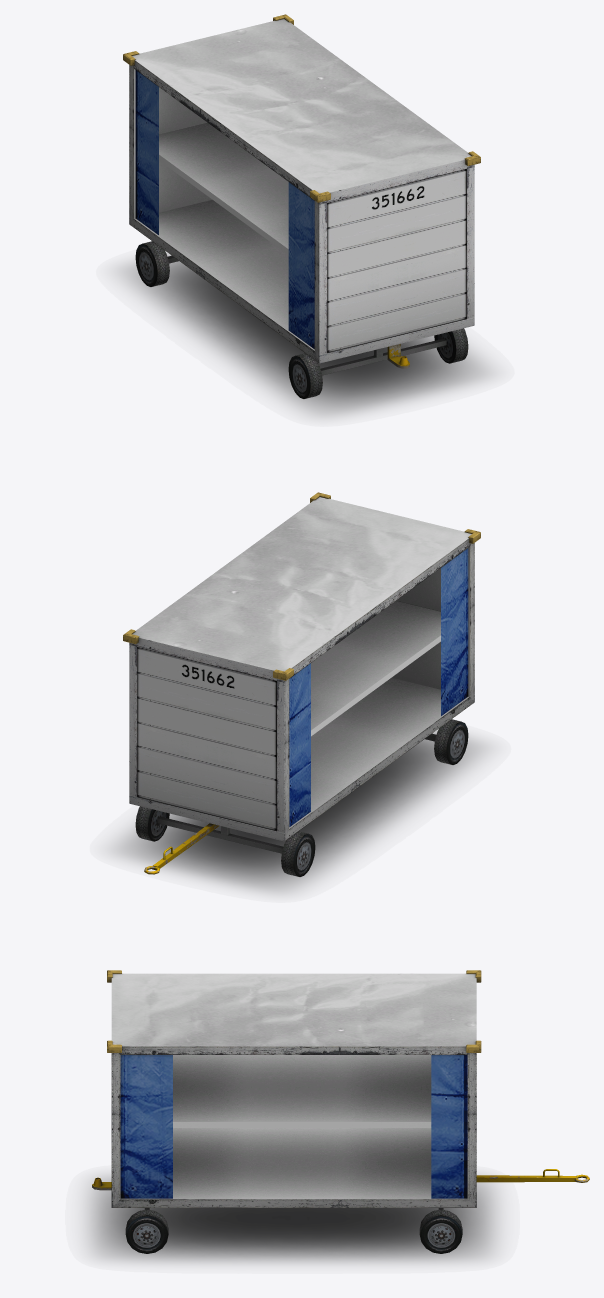
Rendered from Generic_Open.gltf.
The picture shows the model from 3 angles, top to bottom: view 1: azimuth 30°, elevation 25°; view 2: azimuth 150°, elevation 25°; view 3: azimuth 270°, elevation 25°; orthographic projection. The views are drawn at different scales.
Visible parts, largest first — view 1: Generic_Open; view 2: Generic_Open; view 3: Generic_Open.
Part boxes in pixels (<box>): Generic_Open: <box>122,14,487,415</box>; Generic_Open: <box>117,492,483,891</box>; Generic_Open: <box>89,970,589,1262</box>.
Bounding box in the file's own units: 2.71 × 1.98 × 4.95.
